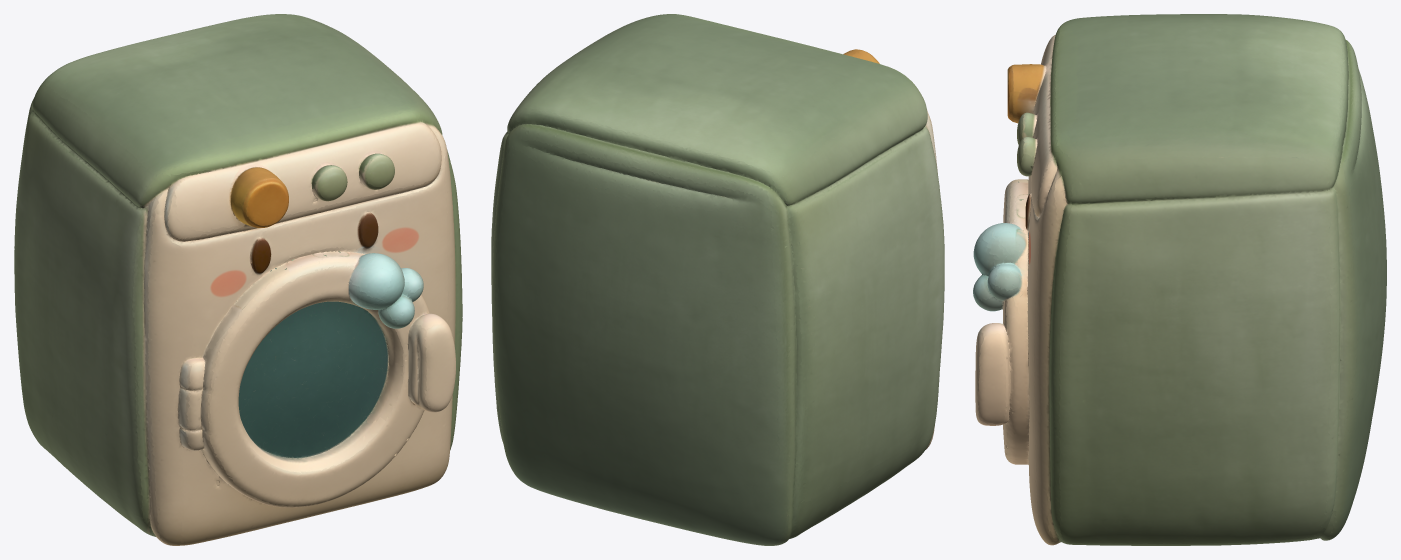
3 views of the same model, side by side, from view 1: azimuth 30°, elevation 25°; view 2: azimuth 150°, elevation 25°; view 3: azimuth 270°, elevation 25° (orthographic). The views are drawn at different scales.
Visible parts, largest first — view 1: geometry_0; view 2: geometry_0; view 3: geometry_0.
Part boxes in pixels (bbox=[...]): geometry_0: bbox=[14, 14, 462, 545]; geometry_0: bbox=[491, 14, 944, 545]; geometry_0: bbox=[973, 14, 1386, 545].
Bounding box in the file's own units: 0.1775 × 0.2 × 0.1781.
1 material, 1 textured.
